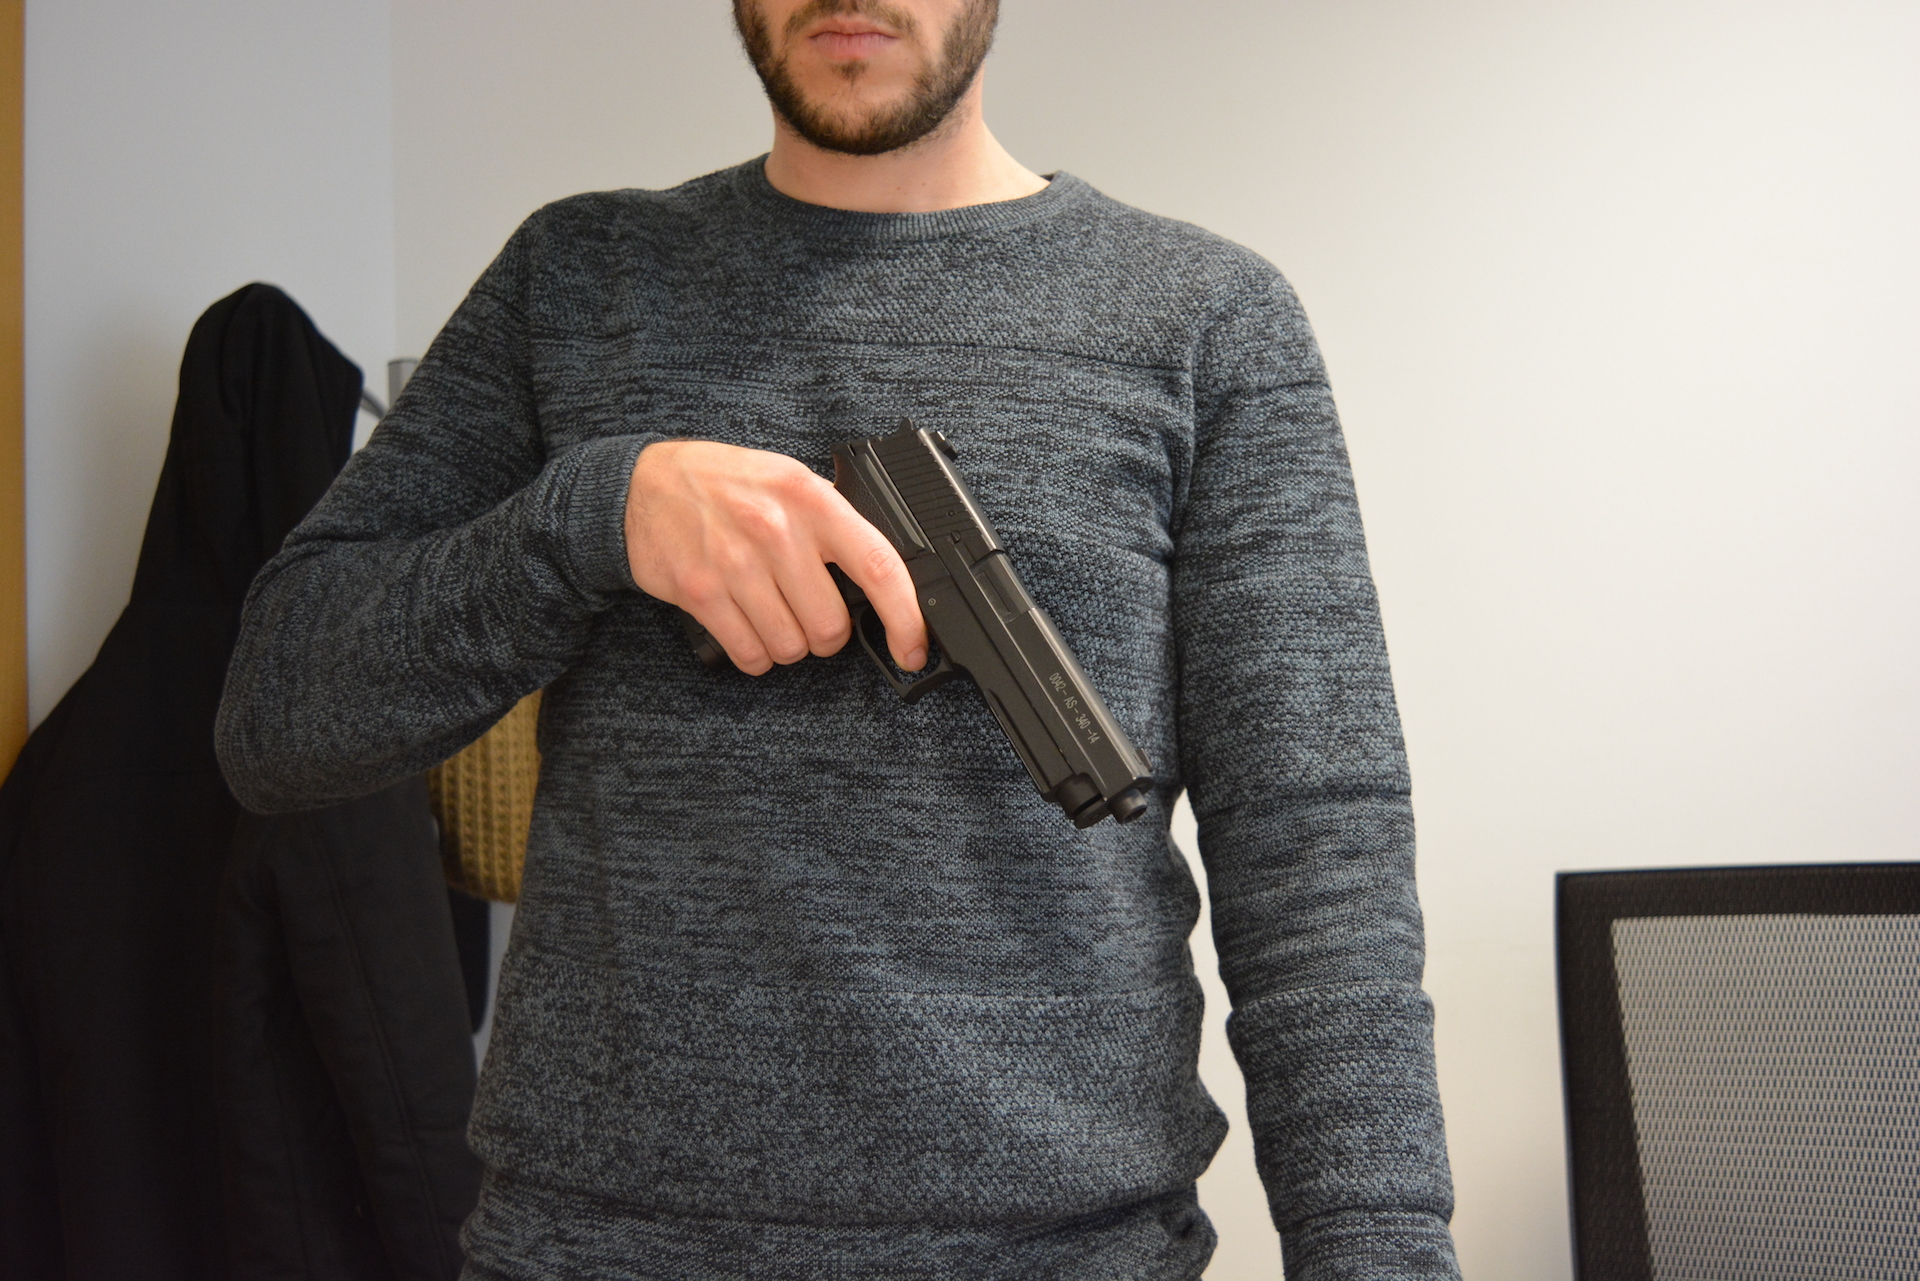pistol: (663, 413, 1158, 834)
